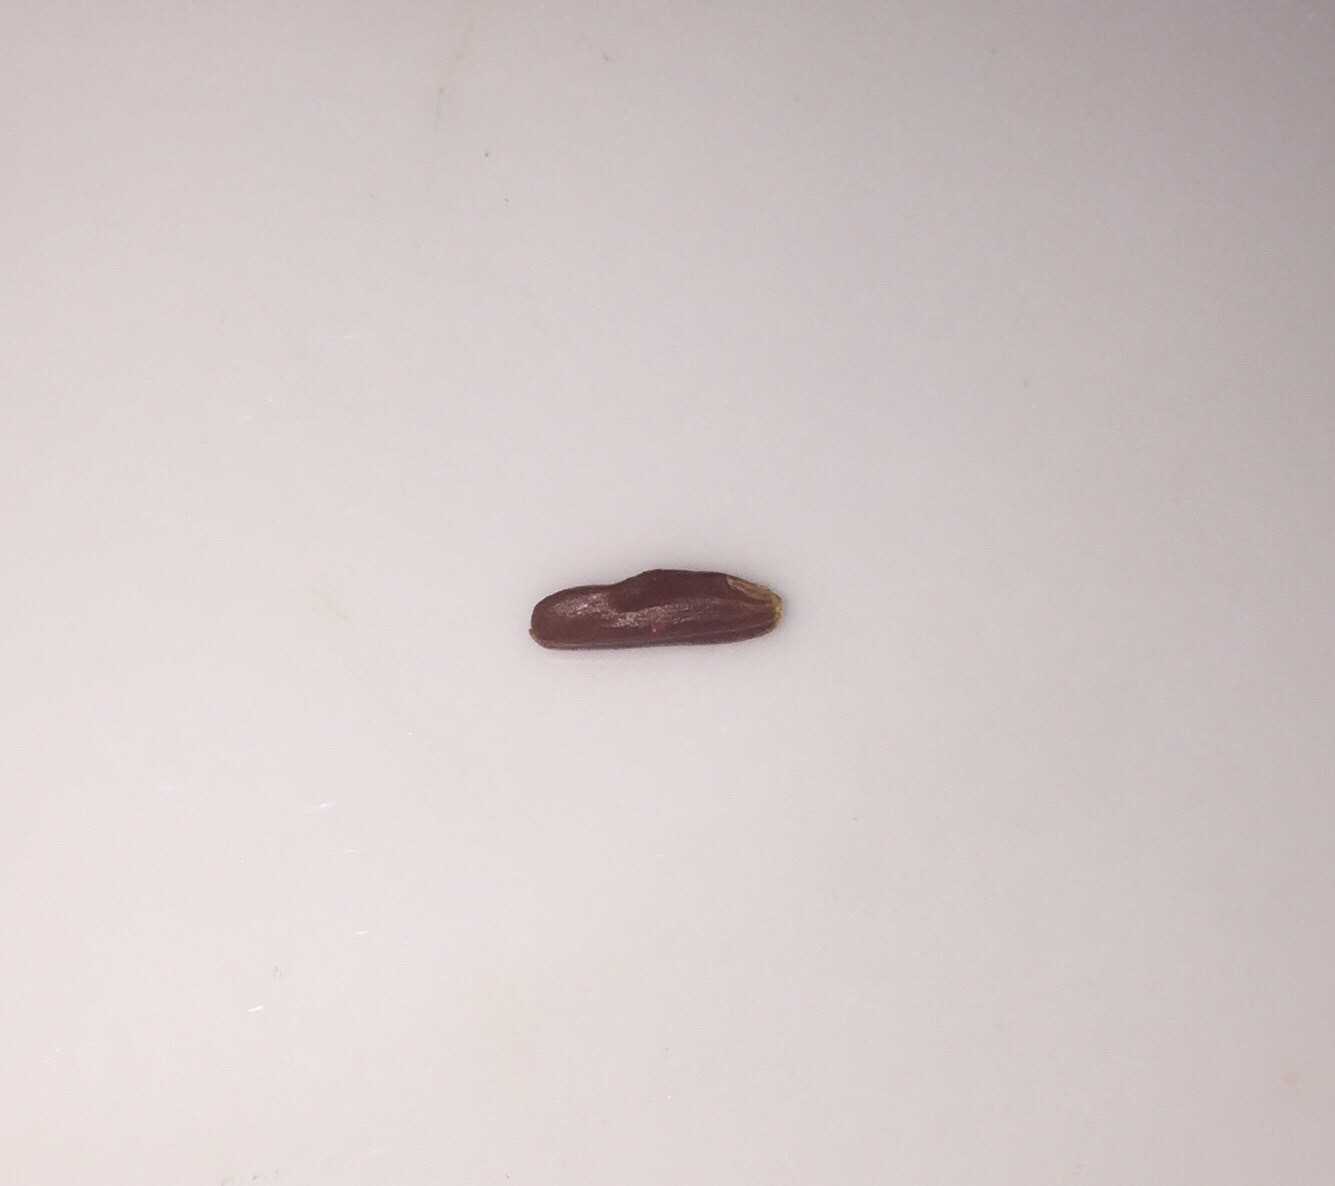Gao Huyet Rong: (521, 553, 792, 675)
